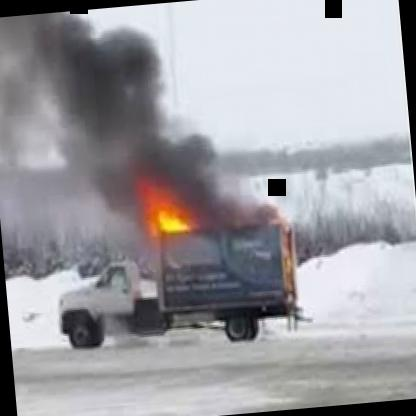fire: (74, 162, 292, 350)
